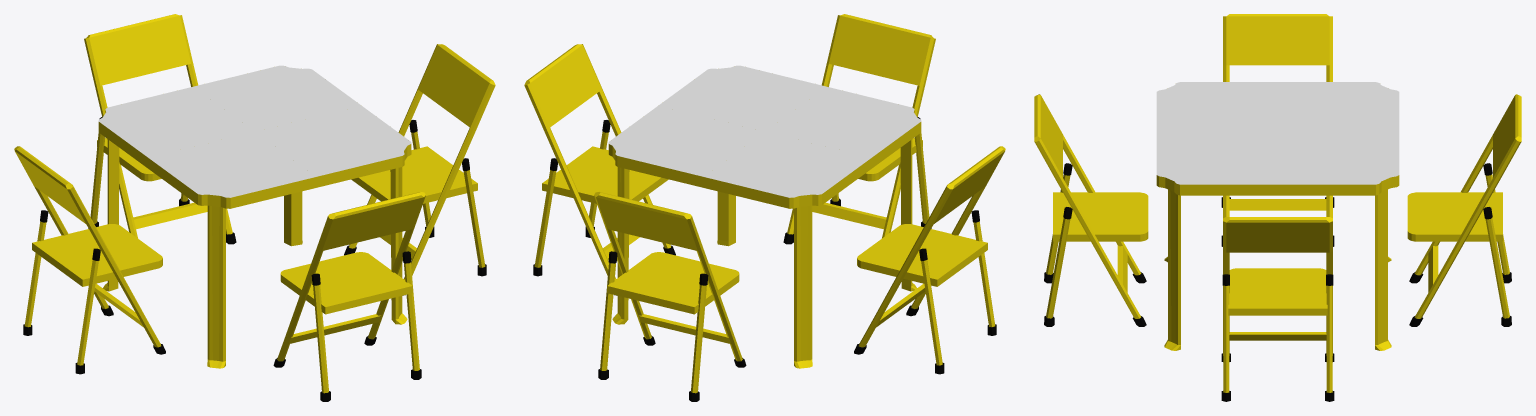
The model's file is bar_yellow.glb.
The picture shows the model from 3 angles, left to right: view 1: azimuth 30°, elevation 25°; view 2: azimuth 150°, elevation 25°; view 3: azimuth 270°, elevation 25°; orthographic projection.
Parts seen in each view (by area): view 1: Plane, Circle.002, Circle.001, Circle.003, Circle; view 2: Plane, Circle, Circle.001, Circle.003, Circle.002; view 3: Plane, Circle.003, Circle, Circle.002, Circle.001.
Boxes of the visible parts, x1,y1,x2,y2 form: Plane: (98, 65, 411, 368); Circle.002: (273, 192, 425, 401); Circle.001: (14, 146, 165, 374); Circle.003: (344, 44, 495, 295); Circle: (84, 14, 236, 244); Plane: (608, 65, 921, 368); Circle: (594, 192, 746, 401); Circle.001: (854, 146, 1005, 374); Circle.003: (524, 44, 675, 295); Circle.002: (783, 14, 935, 244); Plane: (1156, 82, 1399, 350); Circle.003: (1221, 217, 1334, 401); Circle: (1407, 94, 1521, 326); Circle.002: (1034, 94, 1148, 326); Circle.001: (1221, 14, 1334, 246).
Size of the model in its own units: 2.2 by 0.9353 by 2.2.
